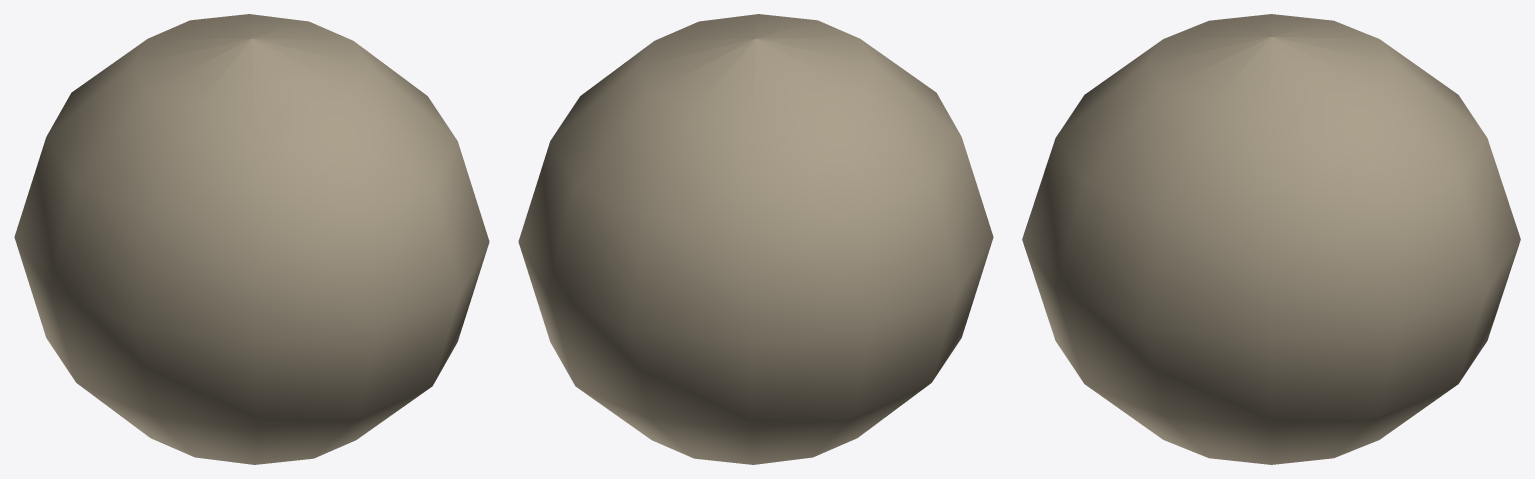
File: catapult_stone.fbx
The picture shows the model from 3 angles, left to right: view 1: azimuth 30°, elevation 25°; view 2: azimuth 150°, elevation 25°; view 3: azimuth 270°, elevation 25°; orthographic projection.
Visible parts, largest first — view 1: catapult_stone; view 2: catapult_stone; view 3: catapult_stone.
Boxes of the visible parts, x1=… form: catapult_stone: x1=14, y1=14, x2=489, y2=464; catapult_stone: x1=518, y1=14, x2=993, y2=464; catapult_stone: x1=1022, y1=14, x2=1520, y2=464.
Bounding box in the file's own units: 0.055 × 0.052 × 0.058.
